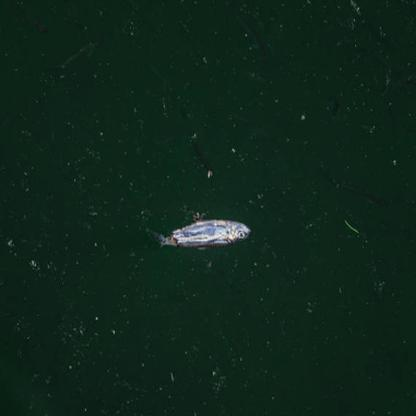deceased fish: (152, 217, 252, 248)
